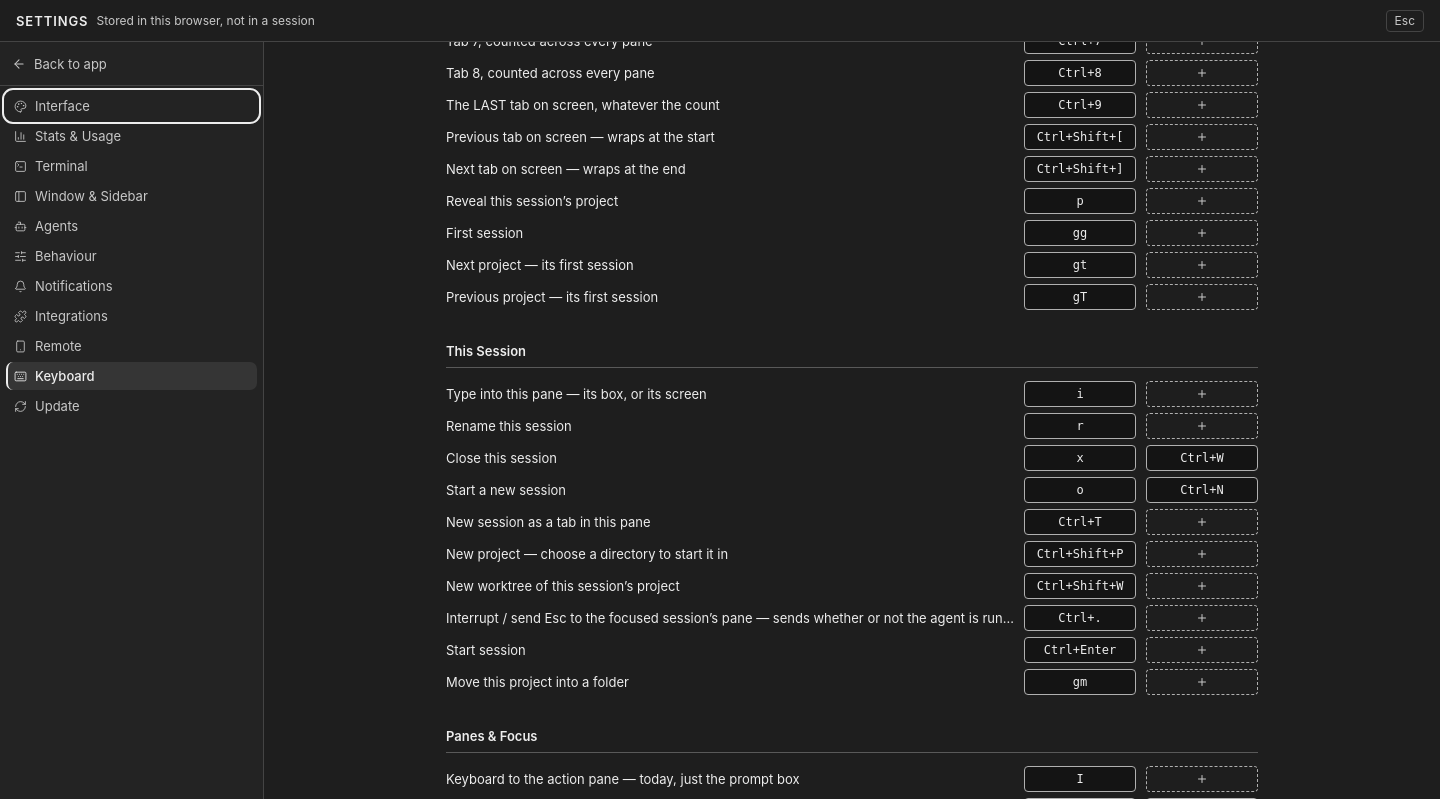
a binding is edited by pressing the key › refuses a conflicting key and names the action it collides with
(page scrolled)
Click the button "r". click: coordinates (1080, 426)
box: [1024,413,1136,439]
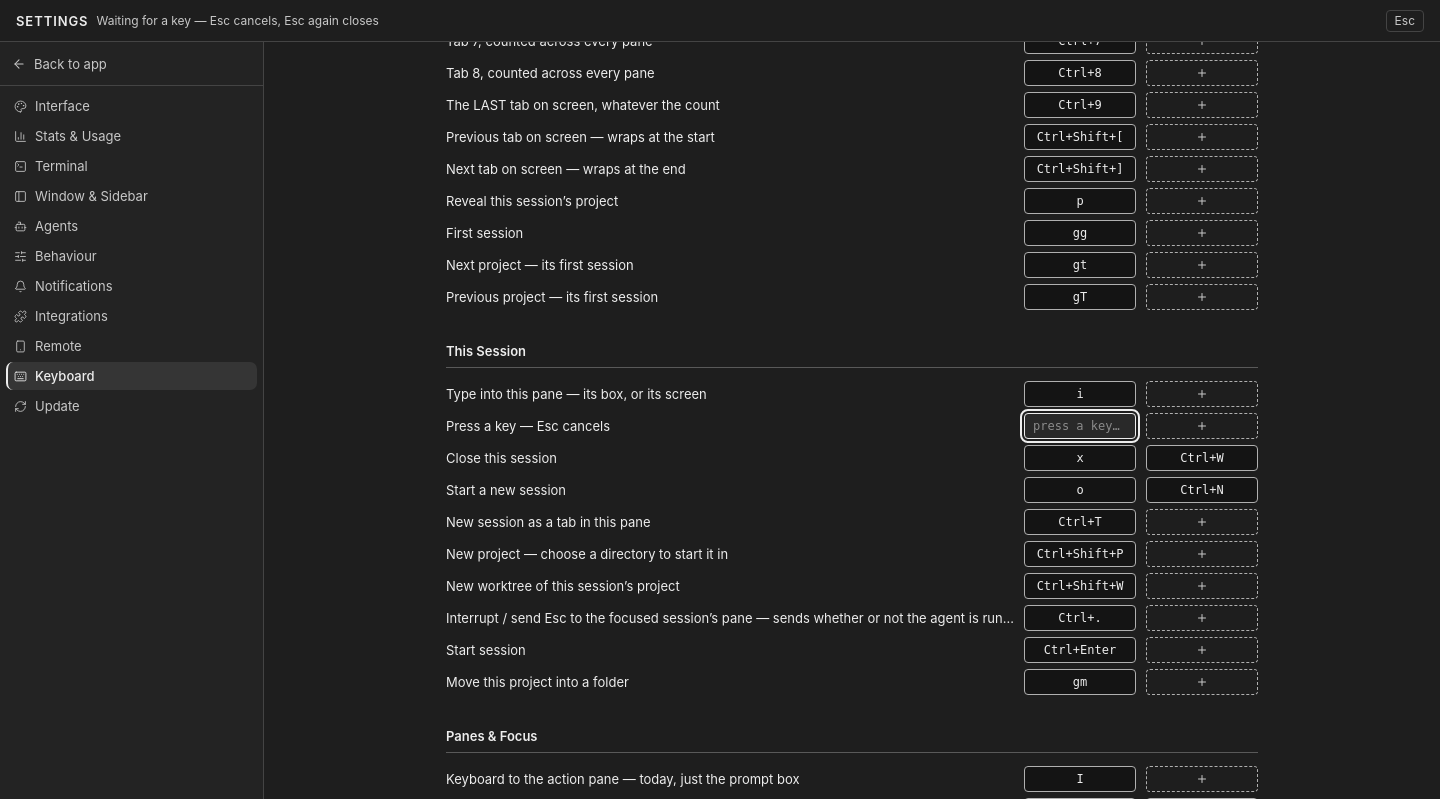
Press i in the field with placeholder "press a key… Esc to cancel", box [1024,413,1136,439]
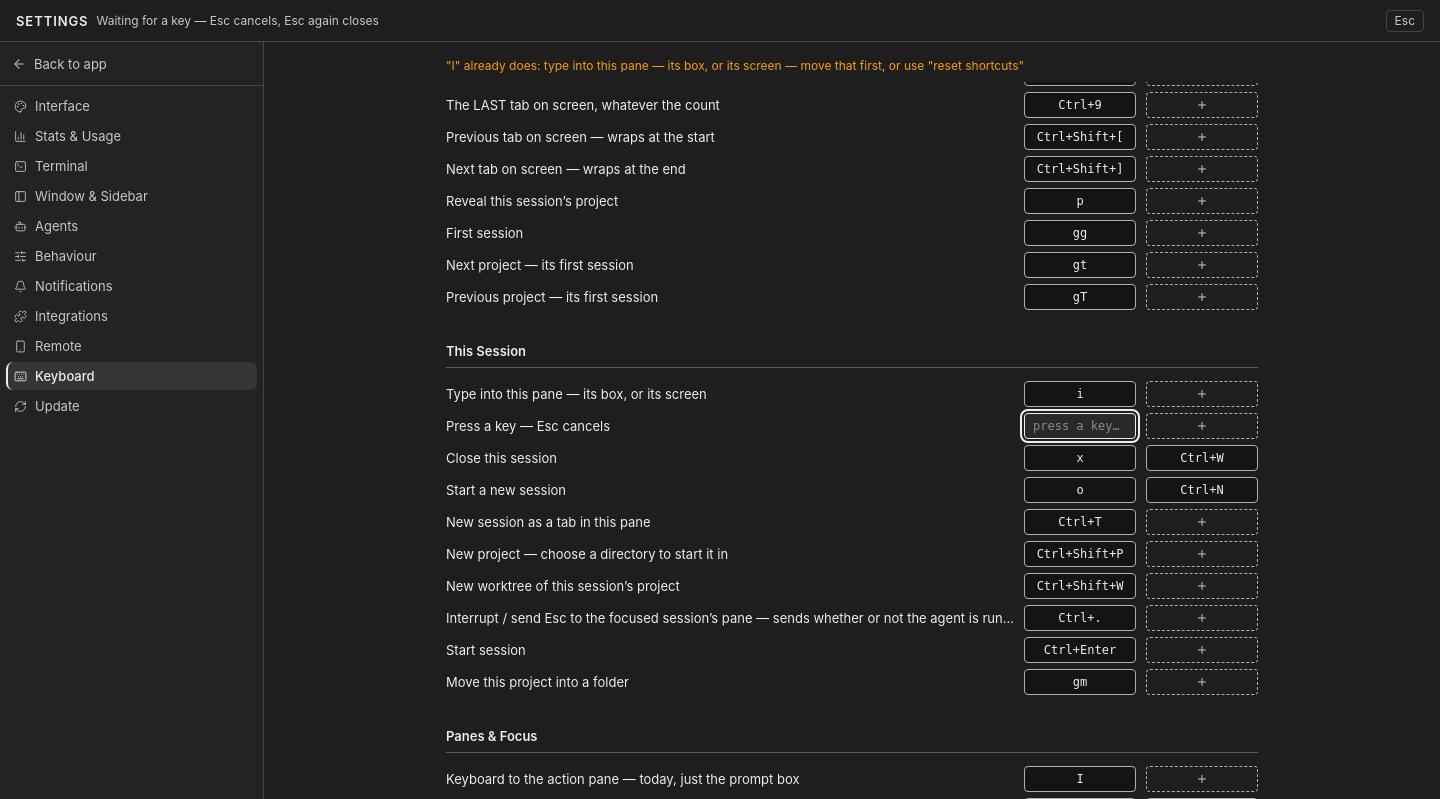
Now the text "type into this pane — its box, or its screen" is shown, box [446,58,1024,73]
